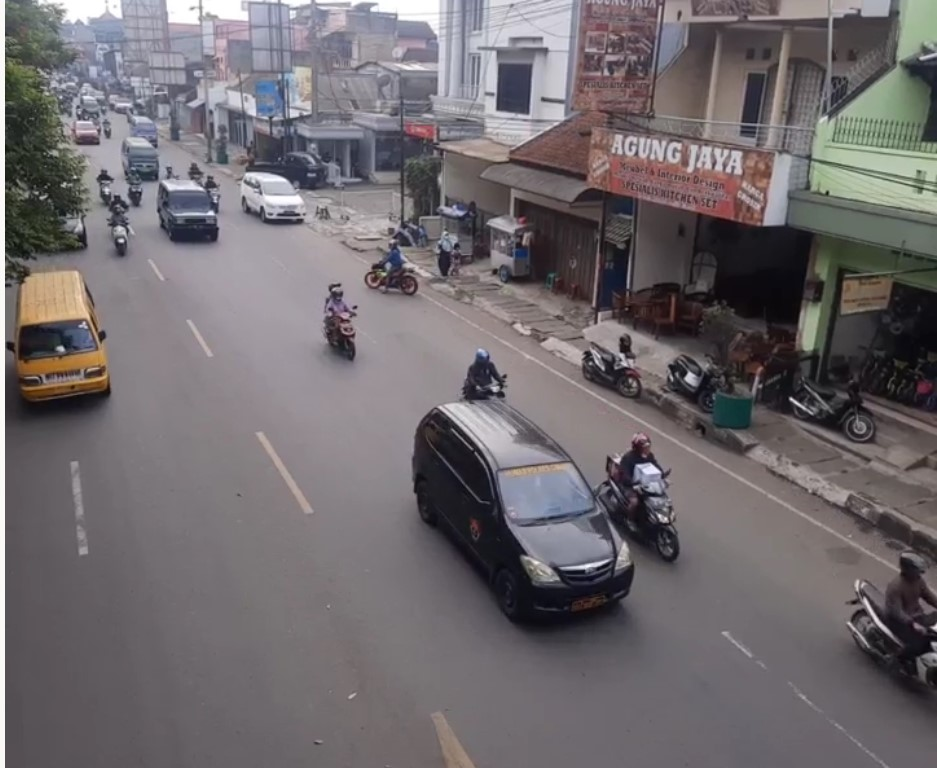mobil: (413, 405, 634, 612), (14, 266, 109, 408), (153, 180, 220, 238), (241, 172, 303, 218)
motor: (604, 442, 683, 561), (320, 284, 364, 362), (107, 209, 133, 253)
